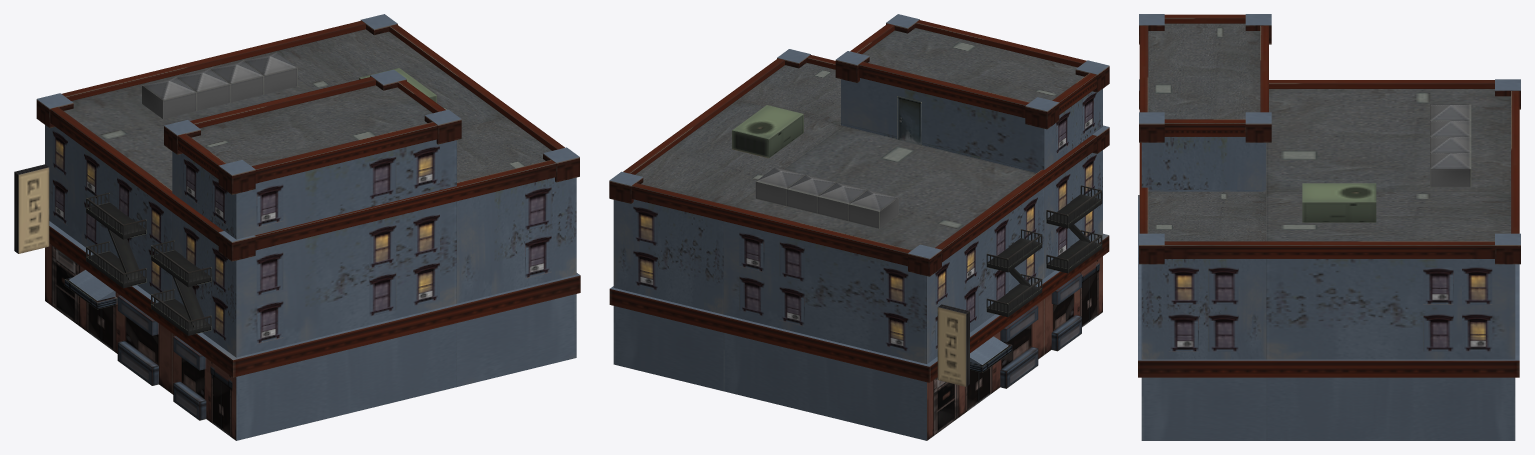
Rendered from apartments.glb.
3 views of the same model, side by side, from view 1: azimuth 30°, elevation 25°; view 2: azimuth 150°, elevation 25°; view 3: azimuth 270°, elevation 25° (orthographic). The views are drawn at different scales.
Parts seen in each view (by area): view 1: apartments; view 2: apartments; view 3: apartments.
Part boxes in pixels (<box>): apartments: <box>14,14,580,440</box>; apartments: <box>609,14,1109,440</box>; apartments: <box>1138,14,1520,440</box>.
Bounding box in the file's own units: 20.6 × 13.92 × 18.44.
Materials: 1 (1 with a texture image).
